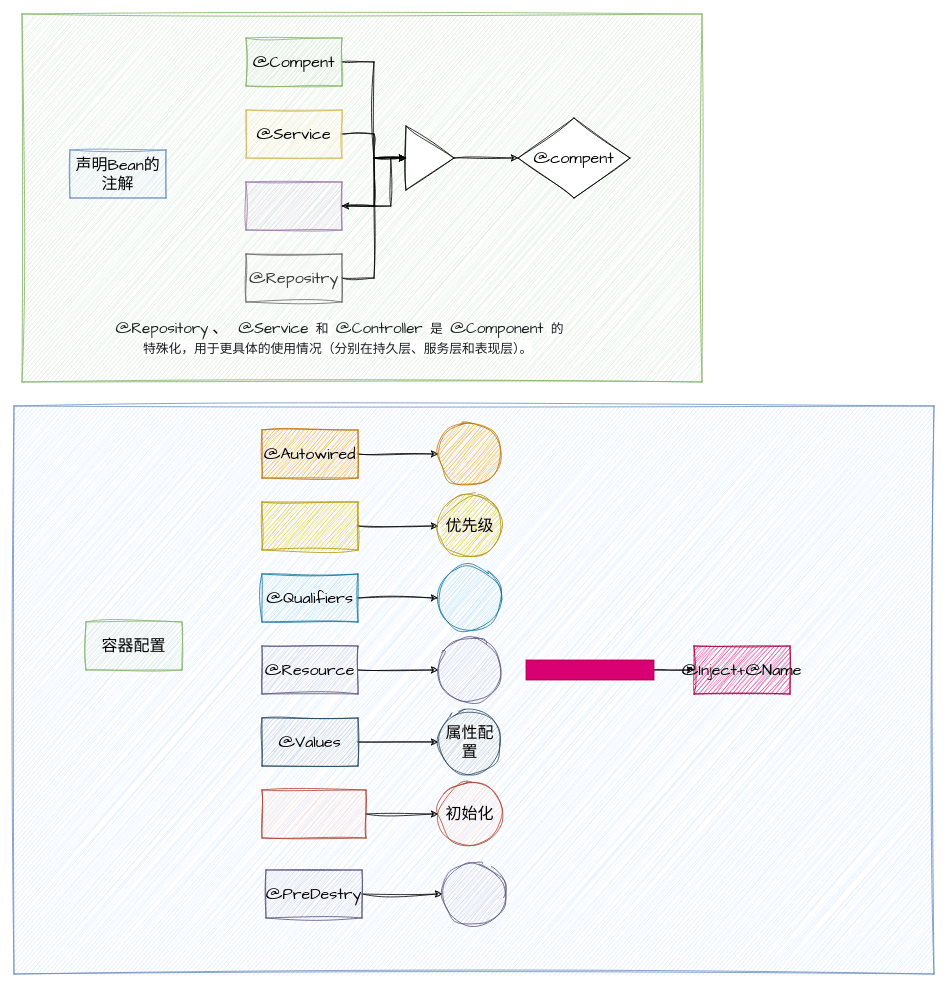
Image size: 948x988. Some labels were removed from this diagram. Here are the shapes that lost their labels. From the top down, the centre of each, then its label:
the point at 293,205: @Controller
the point at 469,453: 注入
the point at 309,525: @Primary
the point at 469,597: 别名
the point at 469,669: 注入（JDK）
the point at 589,669: JSP330注解
the point at 313,813: @PostConstruct
the point at 473,893: 销毁
